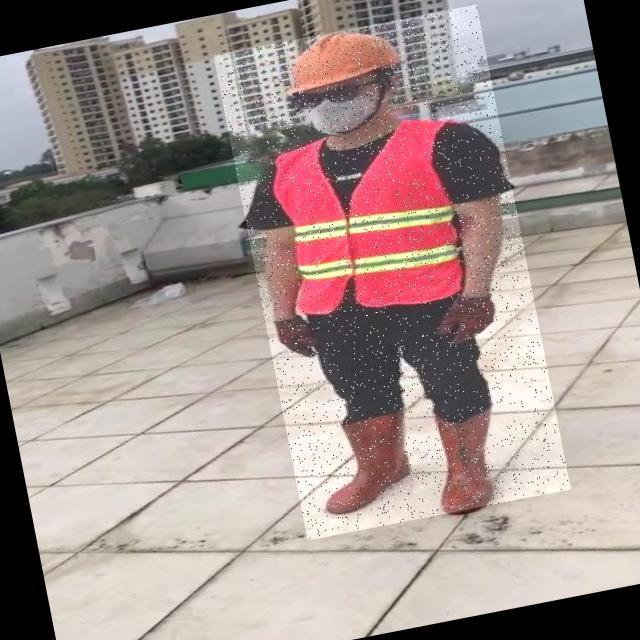Helmet: (270, 22, 409, 98)
Human: (213, 5, 571, 541)
Safety Boot: (310, 410, 423, 516), (424, 408, 512, 519)
Safety Vest: (267, 116, 472, 327)
